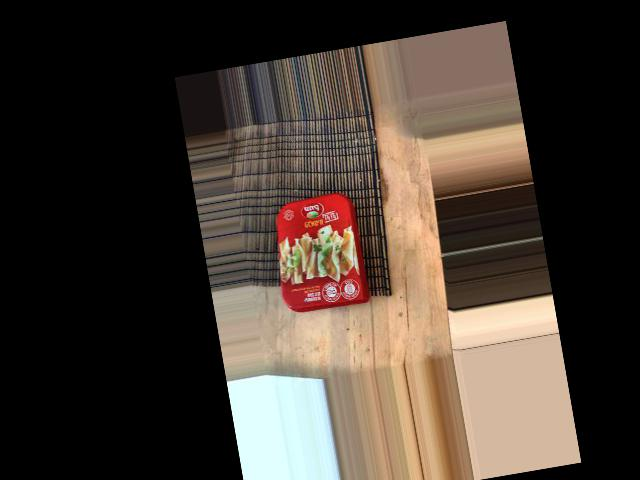cheese: (205, 138, 363, 242)
